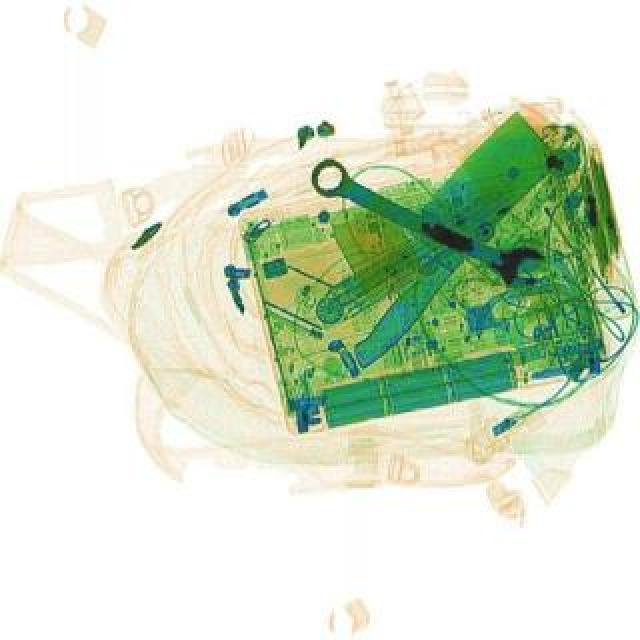knife: (312, 112, 576, 376)
scissors: (306, 150, 556, 302)
